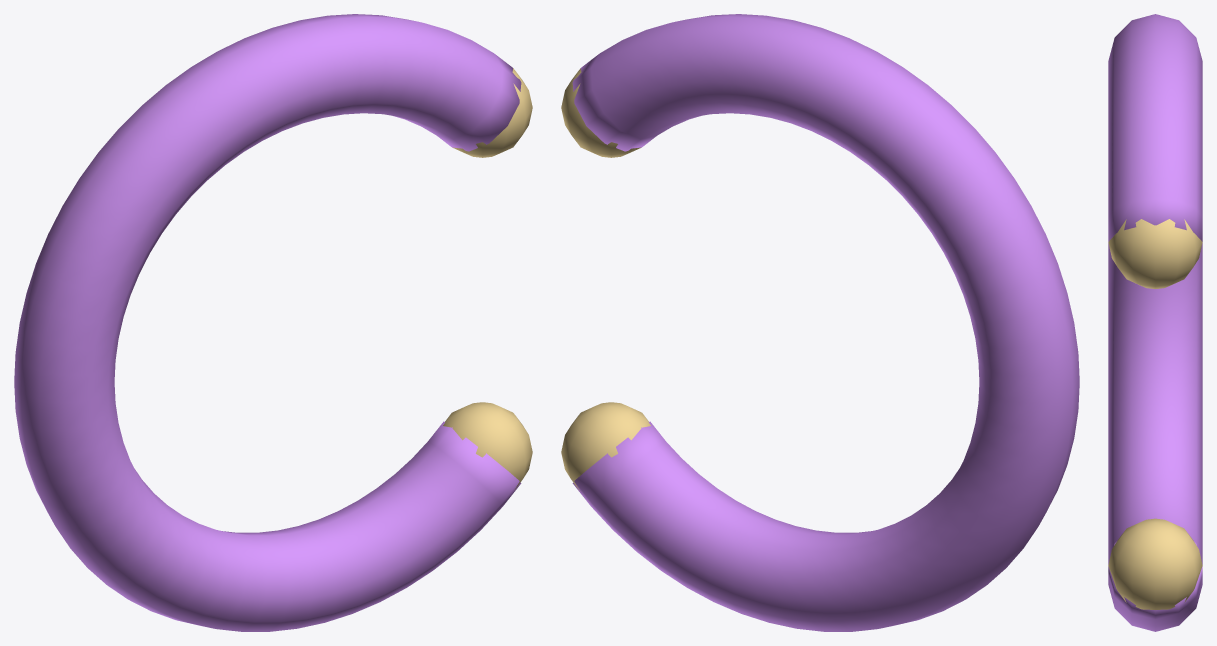
The model's file is mini-arc-DscH4Z1A.glb.
3 views of the same model, side by side, from view 1: azimuth 30°, elevation 25°; view 2: azimuth 150°, elevation 25°; view 3: azimuth 270°, elevation 25° (orthographic). The views are drawn at different scales.
Visible parts, largest first — view 1: R3D_mini-arc_Body_0, R3D_mini-arc_Tip_1, R3D_mini-arc_Tip_0; view 2: R3D_mini-arc_Body_0, R3D_mini-arc_Tip_1, R3D_mini-arc_Tip_0; view 3: R3D_mini-arc_Body_0, R3D_mini-arc_Tip_1, R3D_mini-arc_Tip_0.
Part boxes in pixels (left/top/right/bottom): R3D_mini-arc_Body_0: left=14, top=14, right=521, bottom=631; R3D_mini-arc_Tip_1: left=443, top=402, right=532, bottom=490; R3D_mini-arc_Tip_0: left=452, top=68, right=532, bottom=157; R3D_mini-arc_Body_0: left=572, top=14, right=1079, bottom=631; R3D_mini-arc_Tip_1: left=561, top=402, right=650, bottom=490; R3D_mini-arc_Tip_0: left=561, top=68, right=641, bottom=157; R3D_mini-arc_Body_0: left=1108, top=14, right=1202, bottom=631; R3D_mini-arc_Tip_1: left=1108, top=518, right=1202, bottom=609; R3D_mini-arc_Tip_0: left=1108, top=219, right=1202, bottom=288.
Bounding box in the file's own units: 1.05 × 1.18 × 0.18.
